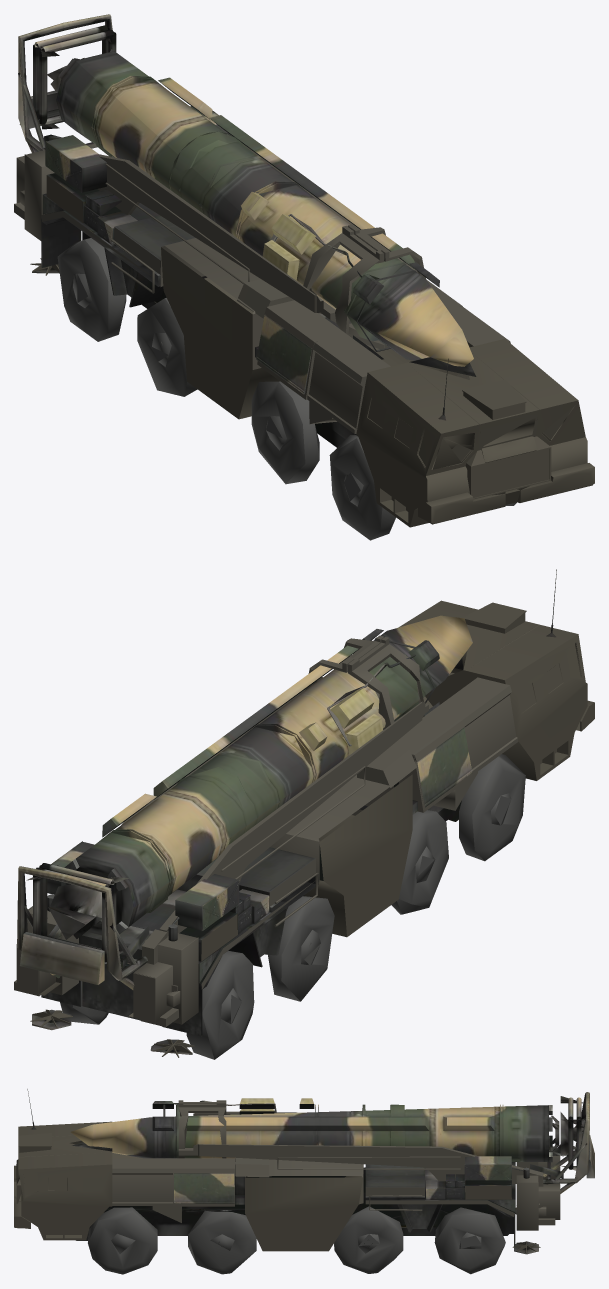
Rendered from maz-uragan.lod0.glb.
3 views of the same model, one above another, from view 1: azimuth 30°, elevation 25°; view 2: azimuth 150°, elevation 25°; view 3: azimuth 270°, elevation 25° (orthographic). The views are drawn at different scales.
Parts seen in each view (by area): view 1: Object_3, Object_2; view 2: Object_3, Object_2; view 3: Object_3, Object_2.
Part boxes in pixels (<box>): Object_3: <box>14,135,594,540</box>; Object_2: <box>18,14,476,447</box>; Object_3: <box>14,600,594,1059</box>; Object_2: <box>17,569,556,1054</box>; Object_3: <box>14,1100,560,1274</box>; Object_2: <box>27,1089,594,1254</box>.
Bounding box in the file's own units: 3.13 × 4.17 × 14.59.
2 materials, 1 textured.
